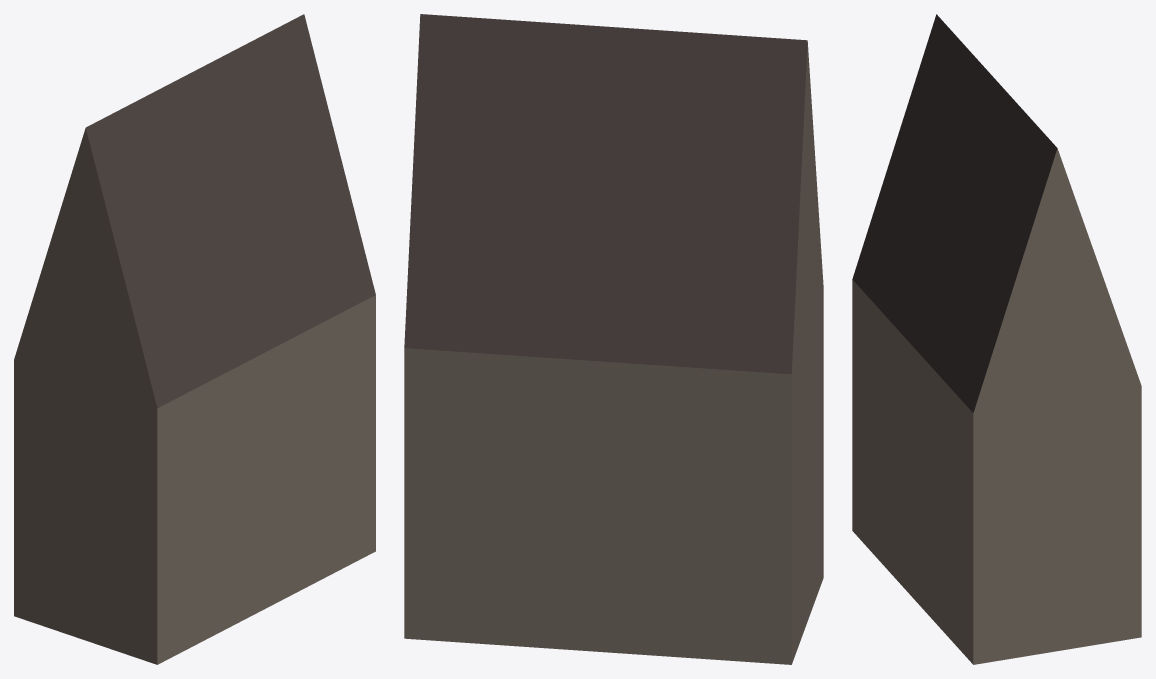
3 views of the same model, side by side, from view 1: azimuth 30°, elevation 25°; view 2: azimuth 150°, elevation 25°; view 3: azimuth 270°, elevation 25° (orthographic). The views are drawn at different scales.
Parts seen in each view (by area): view 1: HP-w428186471; view 2: HP-w428186471; view 3: HP-w428186471.
Boxes of the visible parts, box(x1,y1,x2,y2) form: HP-w428186471: box(14, 14, 375, 664); HP-w428186471: box(404, 14, 823, 664); HP-w428186471: box(852, 14, 1141, 664).
Bounding box in the file's own units: 4.14 × 6 × 3.13.
